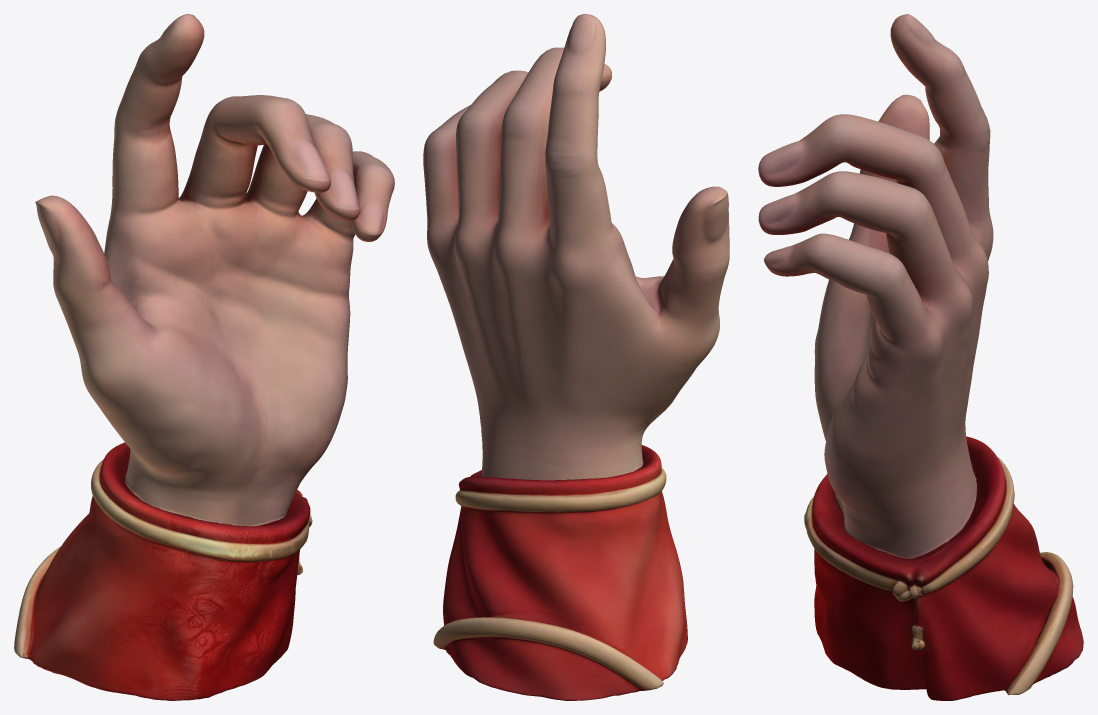
The model's file is hand_left.glb.
3 renders of one model, left to right at view 1: azimuth 30°, elevation 25°; view 2: azimuth 150°, elevation 25°; view 3: azimuth 270°, elevation 25°, orthographic. The views are drawn at different scales.
Visible parts, largest first — view 1: tripo_node_deb82814; view 2: tripo_node_deb82814; view 3: tripo_node_deb82814.
Part boxes in pixels (<box>): tripo_node_deb82814: <box>14,14,394,700</box>; tripo_node_deb82814: <box>423,14,729,700</box>; tripo_node_deb82814: <box>758,14,1083,700</box>.
Size of the model in its own units: 51.92 by 97.81 by 45.68.
1 material, 1 textured.
